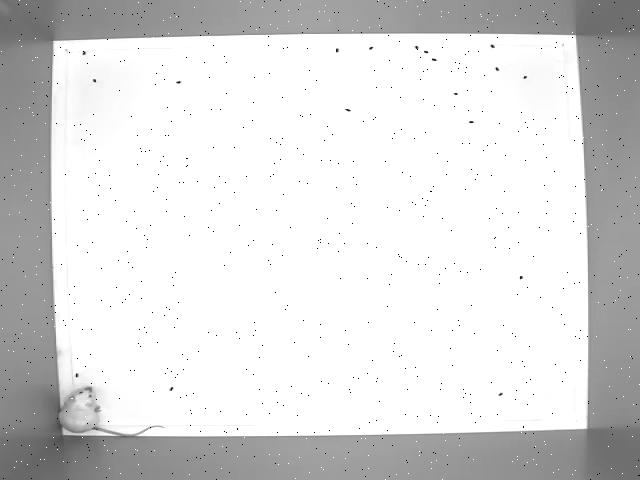Tikus: (54, 382, 168, 440)
